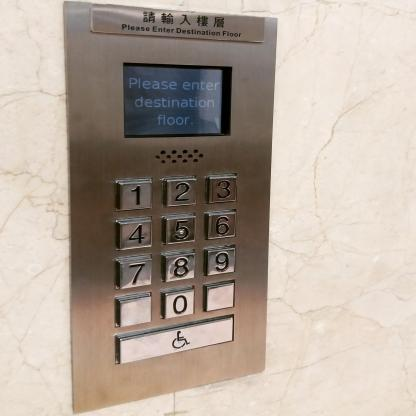0: (160, 287, 195, 321)
1: (113, 176, 155, 212)
2: (162, 174, 200, 208)
3: (204, 170, 240, 204)
4: (115, 218, 154, 250)
5: (160, 212, 199, 245)
6: (202, 208, 238, 242)
7: (114, 254, 153, 291)
8: (160, 249, 196, 282)
9: (202, 245, 238, 279)
CH: (115, 312, 236, 368)
empty: (113, 291, 152, 328), (202, 278, 235, 314)
led: (123, 58, 234, 140)
